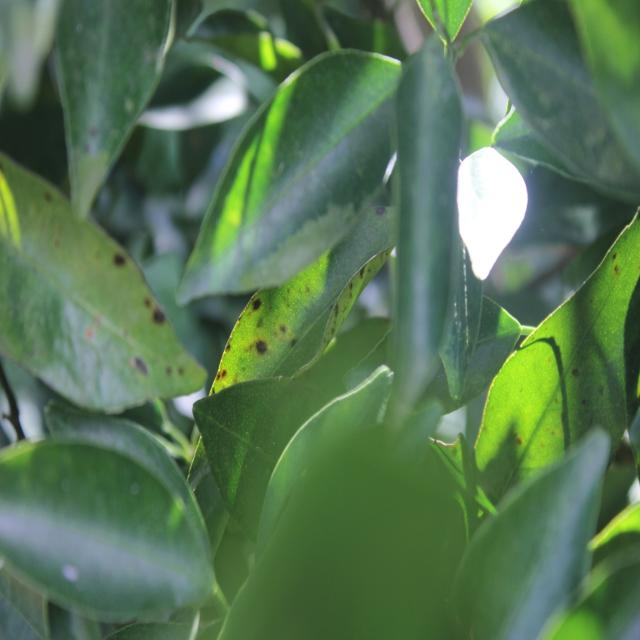melanose: (0, 151, 203, 427), (482, 206, 640, 498), (202, 183, 406, 408)
